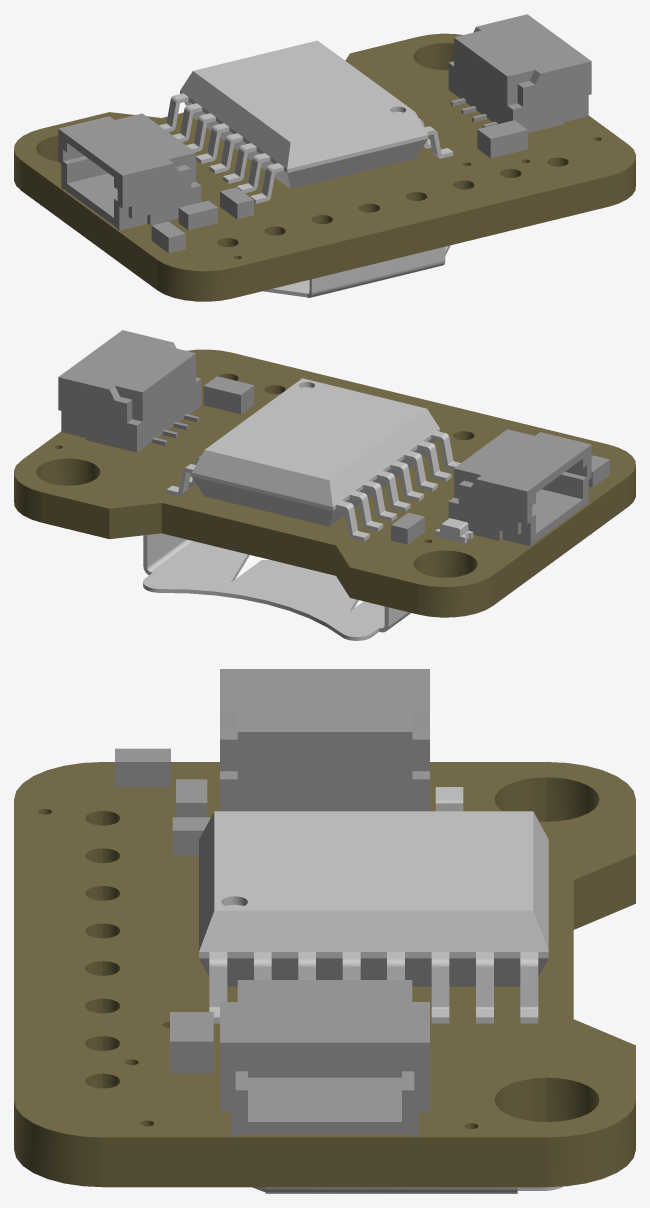
File: ada-5188.glb
3 renders of one model, top to bottom at view 1: azimuth 30°, elevation 25°; view 2: azimuth 150°, elevation 25°; view 3: azimuth 270°, elevation 25°, orthographic. The views are drawn at different scales.
Parts seen in each view (by area): view 1: 0.16666666666666666_0.16666666666666666_0.08333333333333333_, 0.5833333333333334_0.5833333333333334_0.5833333333333334_0.8, 0.3333333333333333_0.3333333333333333_0.3333333333333333_0; view 2: 0.16666666666666666_0.16666666666666666_0.08333333333333333_, 0.5833333333333334_0.5833333333333334_0.5833333333333334_0.8, 0.3333333333333333_0.3333333333333333_0.3333333333333333_0; view 3: 0.16666666666666666_0.16666666666666666_0.08333333333333333_, 0.3333333333333333_0.3333333333333333_0.3333333333333333_0, 0.5833333333333334_0.5833333333333334_0.5833333333333334_0.8.
Boxes of the visible parts, <box> form: 0.16666666666666666_0.16666666666666666_0.08333333333333333_: <box>14,33,635,301</box>; 0.5833333333333334_0.5833333333333334_0.5833333333333334_0.8: <box>159,40,453,297</box>; 0.3333333333333333_0.3333333333333333_0.3333333333333333_0: <box>58,14,591,253</box>; 0.16666666666666666_0.16666666666666666_0.08333333333333333_: <box>14,349,635,617</box>; 0.5833333333333334_0.5833333333333334_0.5833333333333334_0.8: <box>143,378,473,640</box>; 0.3333333333333333_0.3333333333333333_0.3333333333333333_0: <box>58,330,609,546</box>; 0.16666666666666666_0.16666666666666666_0.08333333333333333_: <box>14,762,635,1187</box>; 0.3333333333333333_0.3333333333333333_0.3333333333333333_0: <box>115,669,429,1136</box>; 0.5833333333333334_0.5833333333333334_0.5833333333333334_0.8: <box>199,787,563,1193</box>.
Bounding box in the file's own units: 2.54 × 0.7729 × 1.78.
